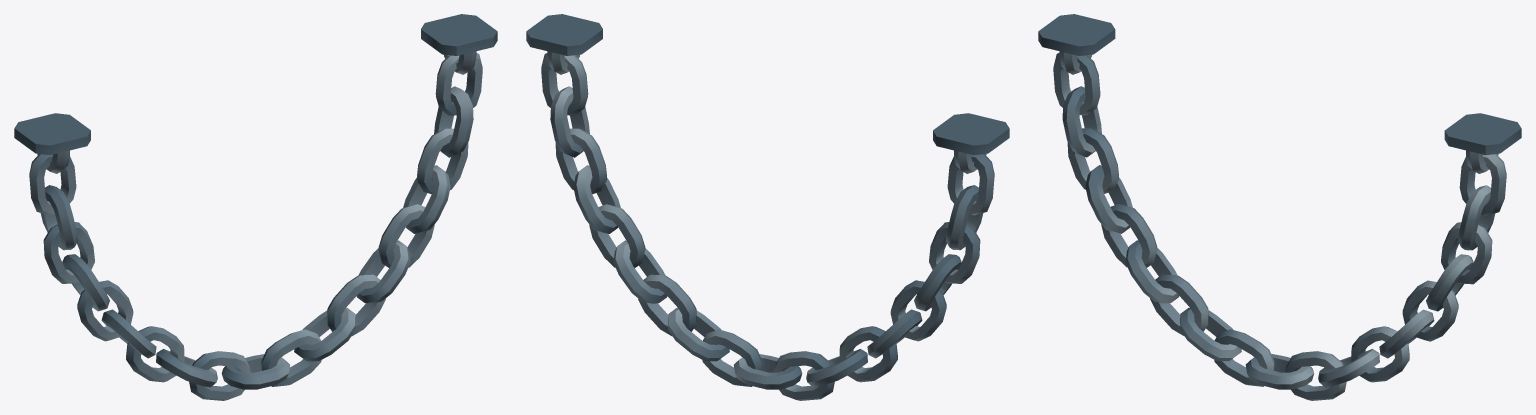
The model's file is chain_hanging_B.glb.
3 views of the same model, side by side, from view 1: azimuth 30°, elevation 25°; view 2: azimuth 150°, elevation 25°; view 3: azimuth 330°, elevation 25° (orthographic).
Visible parts, largest first — view 1: chain_hanging_B; view 2: chain_hanging_B; view 3: chain_hanging_B.
Boxes of the visible parts, bbox=[...] form: chain_hanging_B: bbox=[14, 14, 497, 400]; chain_hanging_B: bbox=[526, 14, 1009, 400]; chain_hanging_B: bbox=[1038, 14, 1521, 400].
Bounding box in the file's own units: 2.5 × 1.62 × 0.3.
Materials: 1 (1 with a texture image).
